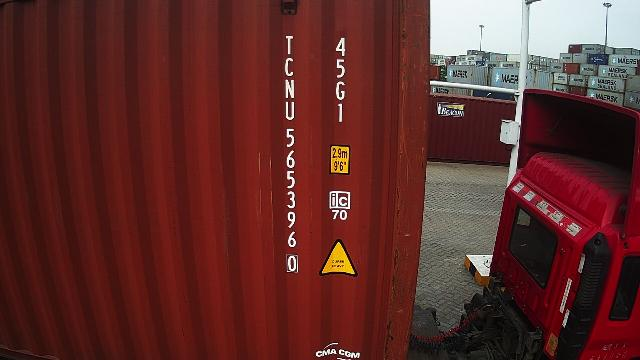0: (286, 253, 298, 272)
3: (286, 190, 296, 210)
5: (286, 171, 296, 189), (286, 128, 294, 148)
6: (286, 150, 296, 168), (288, 230, 296, 248)
9: (288, 211, 296, 229)
C: (284, 57, 294, 77)
N: (285, 79, 295, 99)
T: (285, 35, 293, 55)
U: (285, 101, 295, 121)
